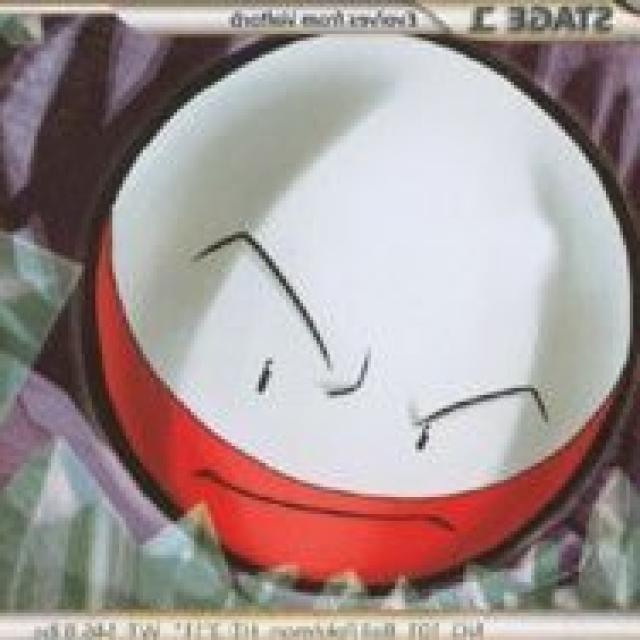Electrode: (90, 34, 628, 594)
